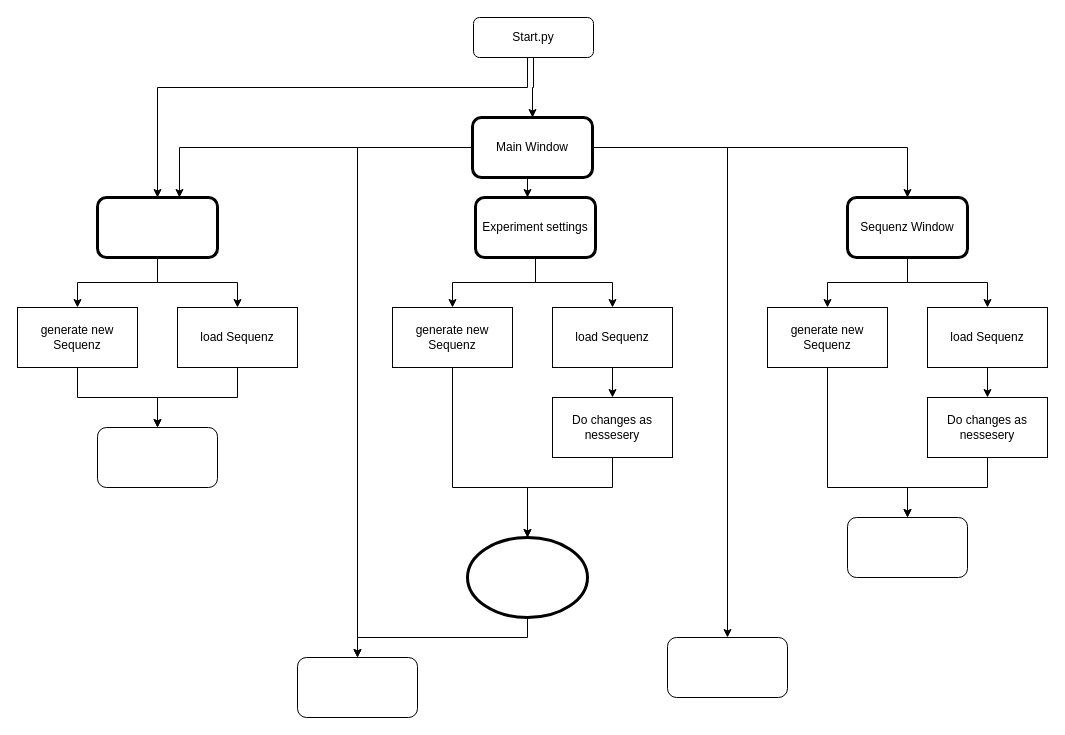
Image size: 1065x735. Some labels were removed from this diagram. Here are the shapes that lost their labels. From the top down, the box of each, then its label:
(96, 196, 218, 258): Experiment Filehandler
(96, 426, 218, 488): Set and save Structure
(846, 516, 968, 578): Save parameter to experiment strukture
(466, 536, 588, 618): RUN experiment
(296, 656, 418, 718): Visualisation of data
(666, 636, 788, 698): Save and Close
